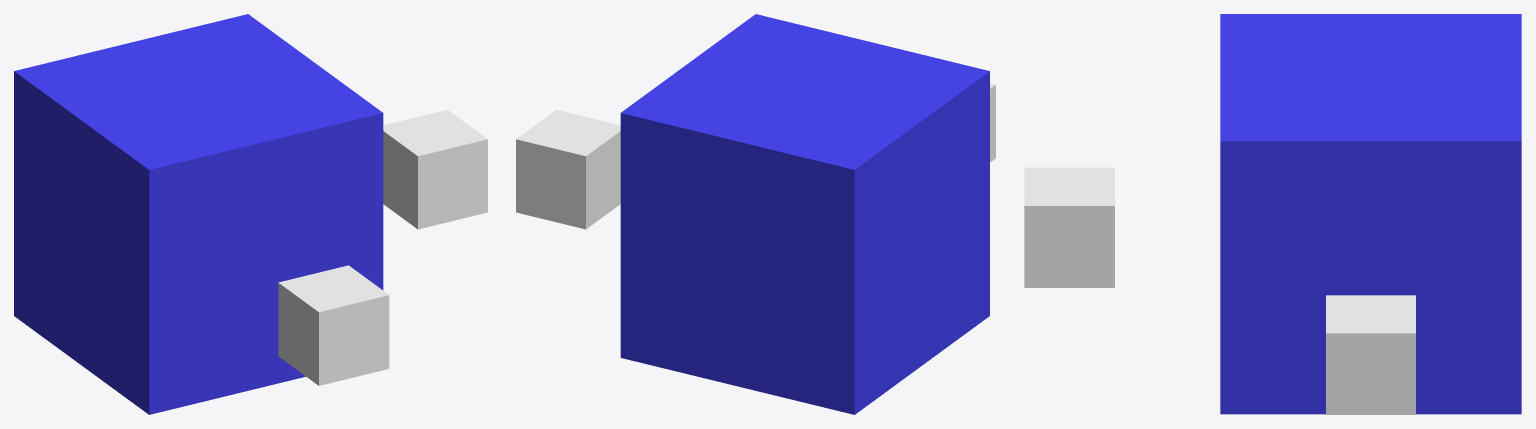
The model's file is minimap_room_2_door_L.fbx.
3 renders of one model, left to right at view 1: azimuth 30°, elevation 25°; view 2: azimuth 150°, elevation 25°; view 3: azimuth 270°, elevation 25°, orthographic. The views are drawn at different scales.
Parts seen in each view (by area): view 1: minimap_room_2_door_L; view 2: minimap_room_2_door_L; view 3: minimap_room_2_door_L.
Part boxes in pixels (left/top/right/bottom): minimap_room_2_door_L: left=14, top=14, right=487, bottom=414; minimap_room_2_door_L: left=516, top=14, right=995, bottom=414; minimap_room_2_door_L: left=1024, top=14, right=1521, bottom=414.
Size of the model in its own units: 0.8247 by 0.5 by 0.8252.
